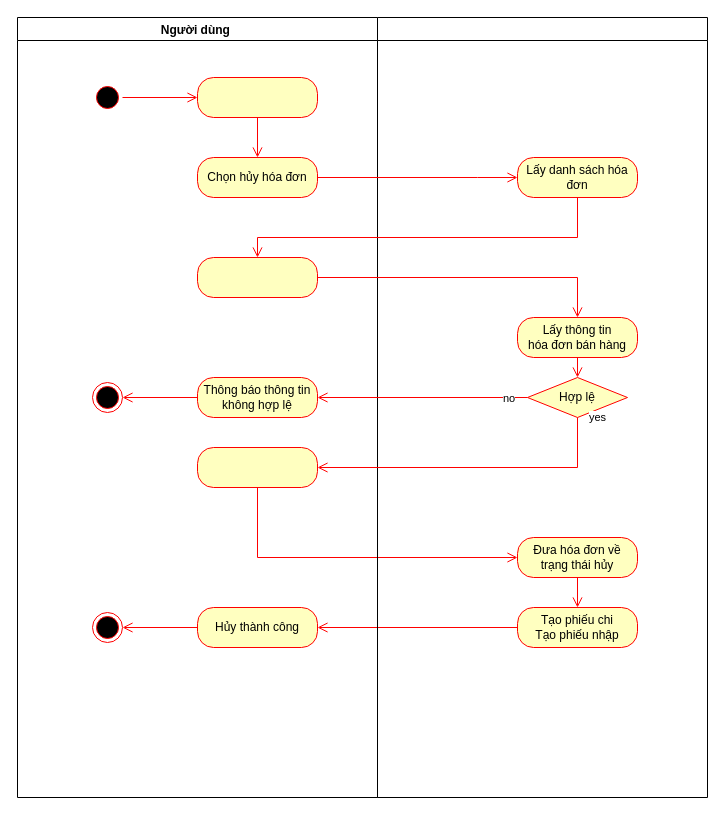
This 725x815 diagram has some shape labels left out. Here are the shapes that lost their labels. From the top down, the box of each, then its label:
(196, 76, 318, 118): Mở trang quản lý hóa đơn bán hàng
(196, 256, 318, 298): Chọn hóa đơn Nhấn "Hủy"
(376, 16, 708, 798): Hệ thống
(196, 446, 318, 488): Xác nhận hủy hóa đơn
